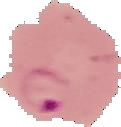parasitized: (17, 60, 71, 115)
